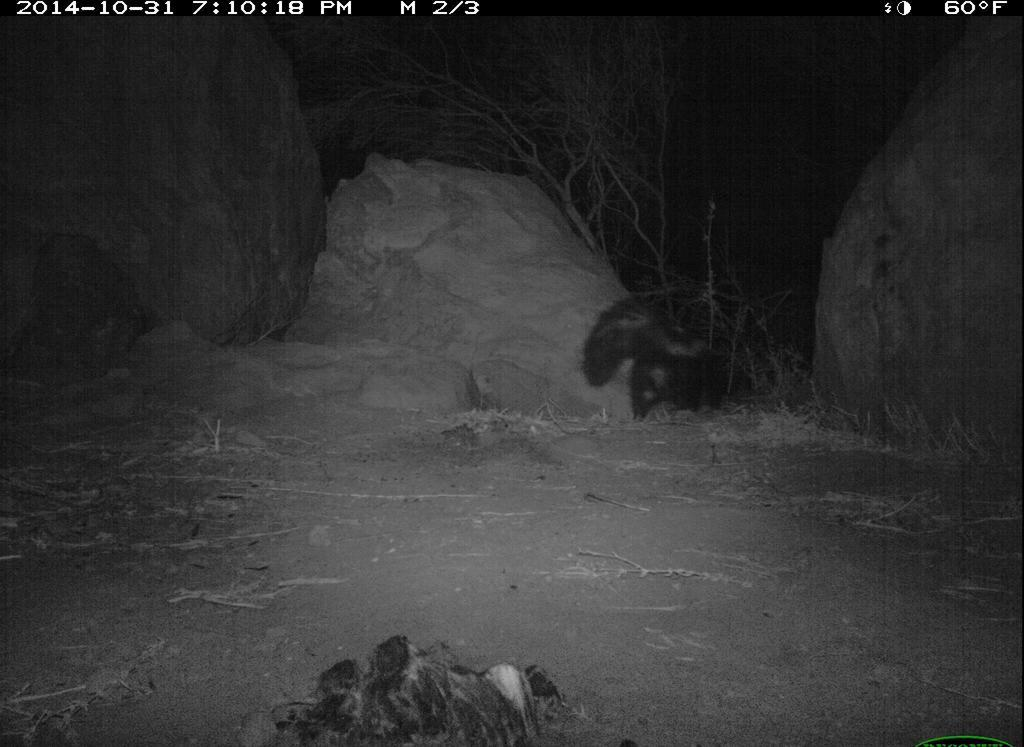skunk: (583, 290, 728, 428)
